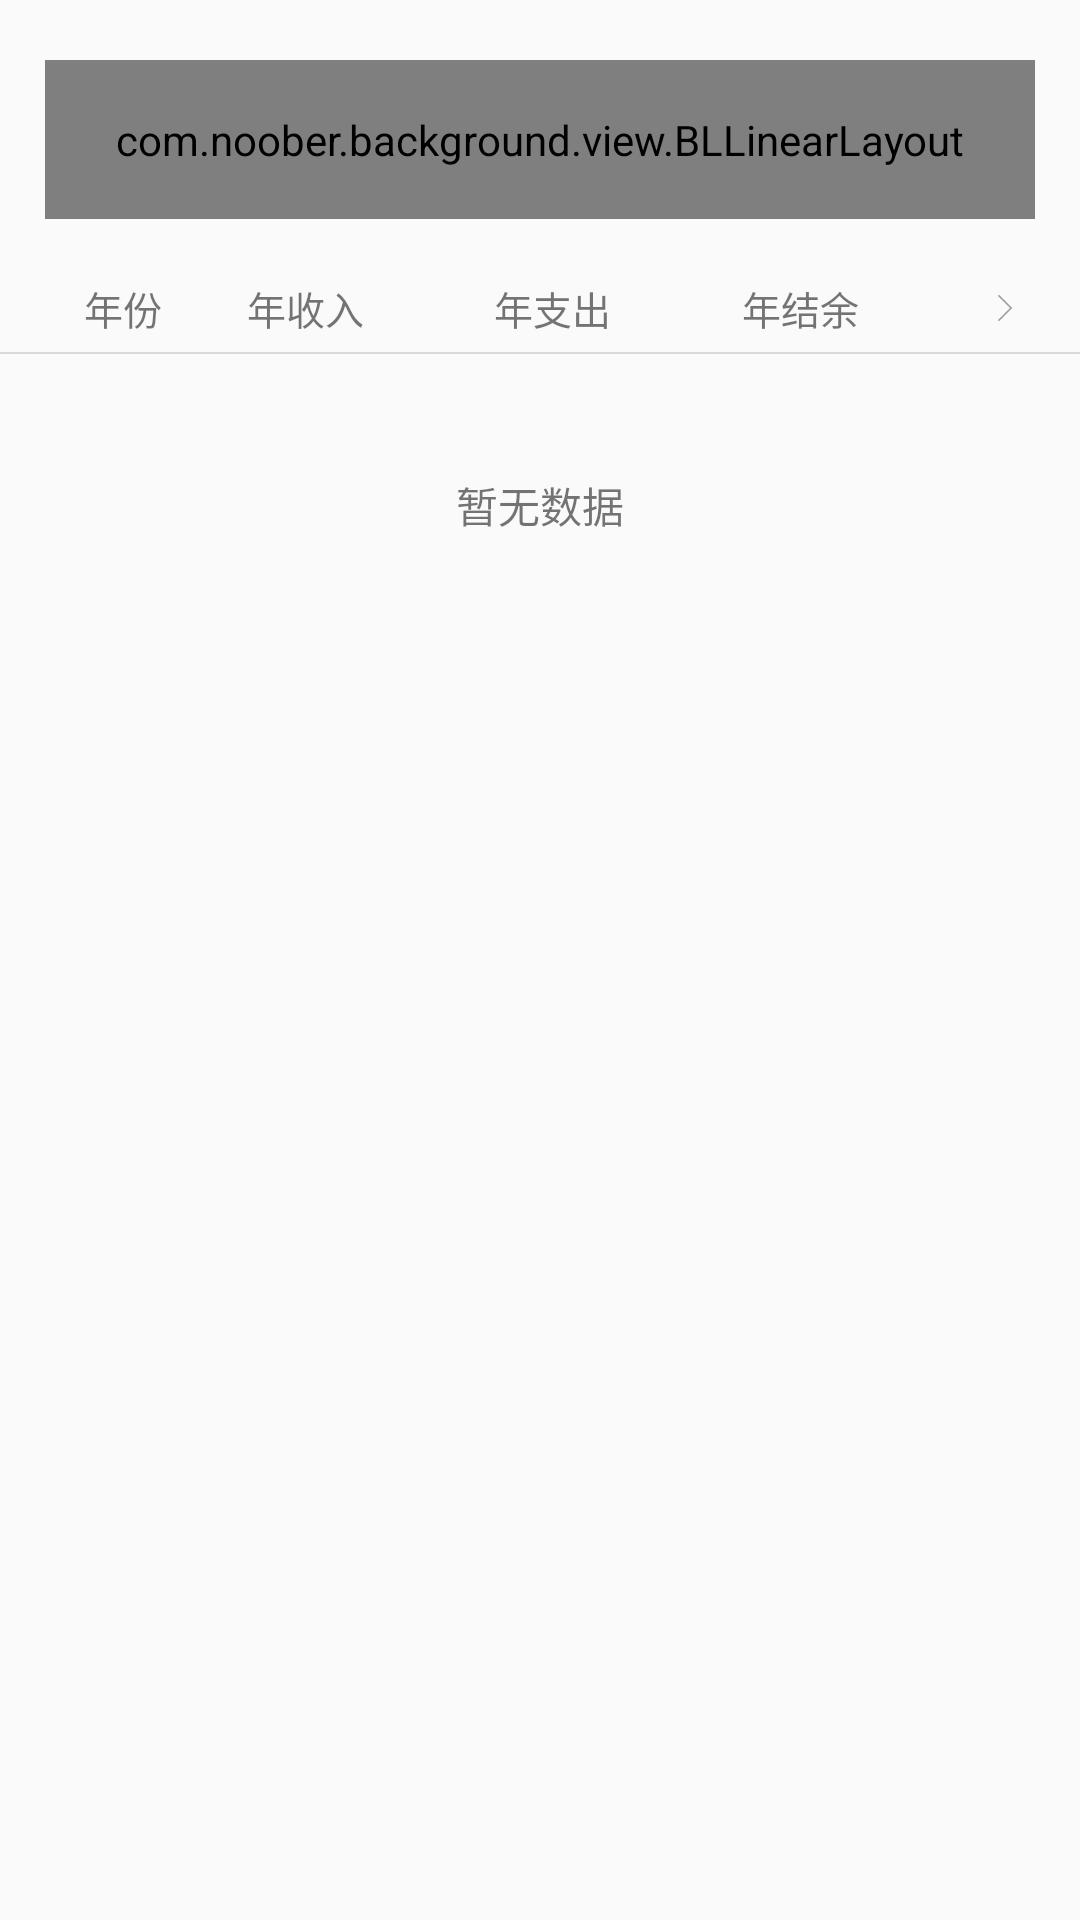

Icons on this 1080 x 1920 Android screen, each with the point to tap as point (x, y):
right arrow: point (1005, 308)
